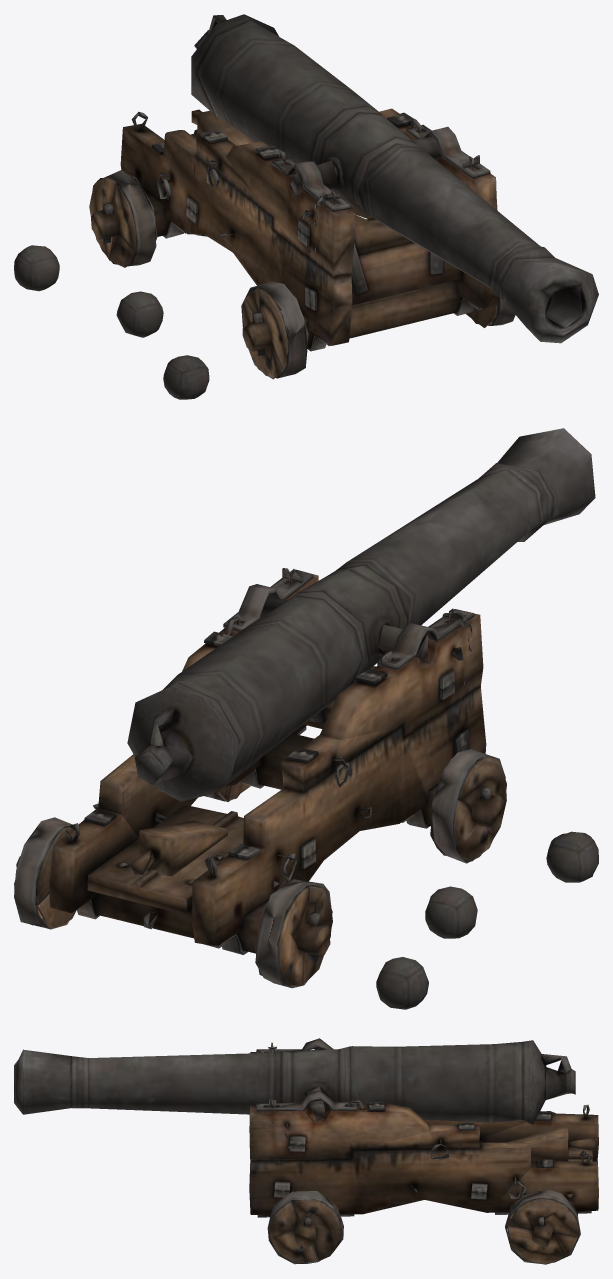
File: cannon_01.glb
3 views of the same model, one above another, from view 1: azimuth 30°, elevation 25°; view 2: azimuth 150°, elevation 25°; view 3: azimuth 270°, elevation 25° (orthographic). The views are drawn at different scales.
Visible parts, largest first — view 1: cannon_01_frame, cannon_01_barrel, cannon_01_wheel_01, cannon_01_wheel_02, cannon_01_ball_03, cannon_01_ball_02, cannon_01_ball_01, cannon_01_pusherblock, cannon_01_wheel_03; view 2: cannon_01_frame, cannon_01_barrel, cannon_01_wheel_01, cannon_01_wheel_02, cannon_01_wheel_04, cannon_01_pusherblock, cannon_01_ball_02, cannon_01_ball_01, cannon_01_ball_03; view 3: cannon_01_barrel, cannon_01_frame, cannon_01_wheel_04, cannon_01_wheel_03, cannon_01_pusherblock.
Part boxes in pixels (x1,y1,x2,y2): cannon_01_frame: [91, 108, 499, 355]; cannon_01_barrel: [191, 14, 598, 343]; cannon_01_wheel_01: [241, 281, 308, 379]; cannon_01_wheel_02: [89, 170, 157, 267]; cannon_01_ball_03: [14, 245, 59, 291]; cannon_01_ball_02: [116, 291, 163, 337]; cannon_01_ball_01: [163, 355, 209, 399]; cannon_01_pusherblock: [191, 109, 254, 145]; cannon_01_wheel_03: [466, 298, 515, 327]; cannon_01_frame: [16, 568, 505, 961]; cannon_01_barrel: [127, 428, 595, 801]; cannon_01_wheel_01: [430, 749, 506, 863]; cannon_01_wheel_02: [255, 879, 332, 988]; cannon_01_wheel_04: [14, 817, 75, 929]; cannon_01_pusherblock: [130, 820, 227, 876]; cannon_01_ball_02: [425, 886, 477, 938]; cannon_01_ball_01: [546, 831, 598, 882]; cannon_01_ball_03: [376, 957, 428, 1009]; cannon_01_barrel: [14, 1040, 575, 1124]; cannon_01_frame: [249, 1038, 598, 1249]; cannon_01_wheel_04: [505, 1190, 580, 1264]; cannon_01_wheel_03: [267, 1191, 343, 1264]; cannon_01_pusherblock: [506, 1125, 595, 1161].
Size of the model in its own units: 1.23 by 0.7689 by 2.3.
Materials: 1 (1 with a texture image).
